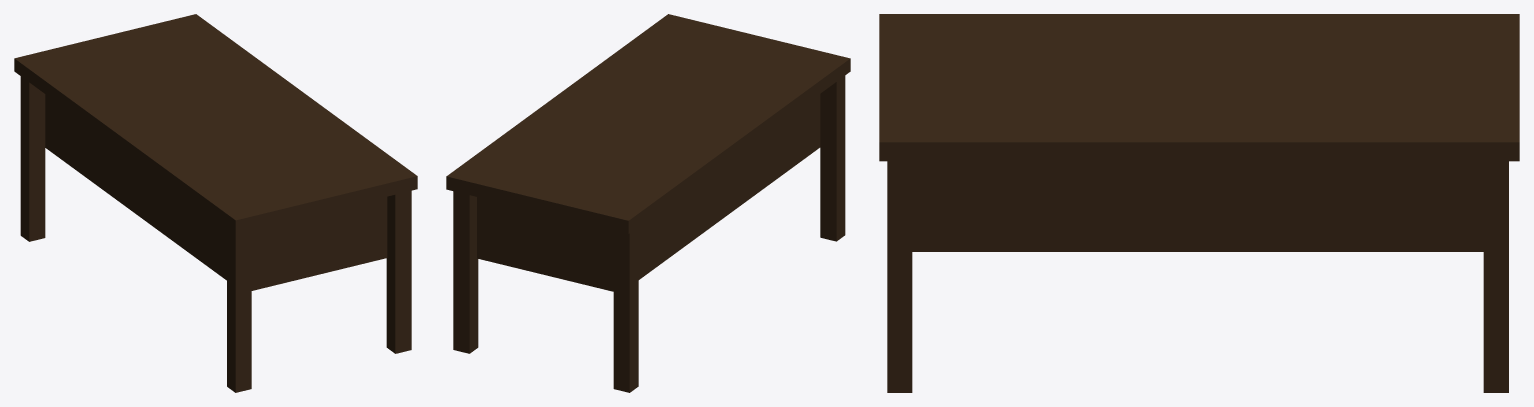
The model's file is WoodTable_3.FBX.
3 views of the same model, side by side, from view 1: azimuth 30°, elevation 25°; view 2: azimuth 150°, elevation 25°; view 3: azimuth 270°, elevation 25° (orthographic). The views are drawn at different scales.
Visible parts, largest first — view 1: Plane019; view 2: Plane019; view 3: Plane019.
Part boxes in pixels (bbox=[...]): Plane019: bbox=[14, 14, 417, 392]; Plane019: bbox=[446, 14, 850, 392]; Plane019: bbox=[879, 14, 1519, 392].
Bounding box in the file's own units: 27.61 × 25.41 × 58.25.
